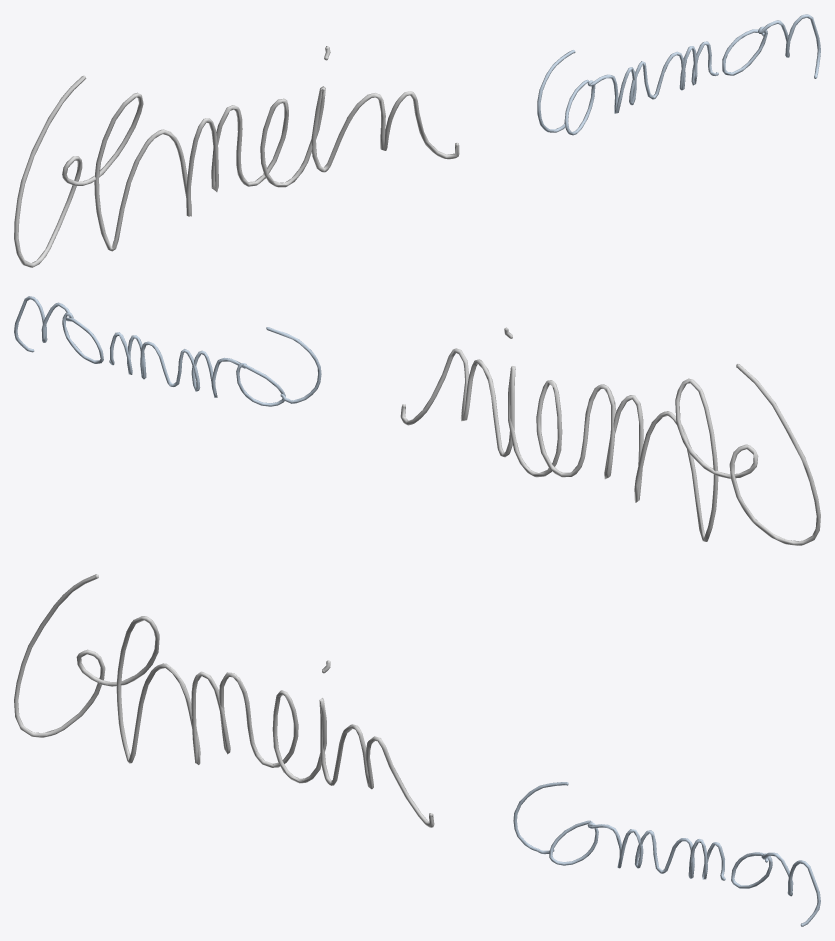
Rendered from Gemein.glb.
The picture shows the model from 3 angles, top to bottom: view 1: azimuth 30°, elevation 25°; view 2: azimuth 150°, elevation 25°; view 3: azimuth 330°, elevation 25°; orthographic projection.
Visible parts, largest first — view 1: Mesh_4.008; view 2: Mesh_4.008; view 3: Mesh_4.008.
Boxes of the visible parts, x1,y1,x2,y2 form: Mesh_4.008: (14,14,820,267); Mesh_4.008: (14,296,820,545); Mesh_4.008: (14,574,820,926).
Bounding box in the file's own units: 1.99 × 0.4341 × 0.1298.
